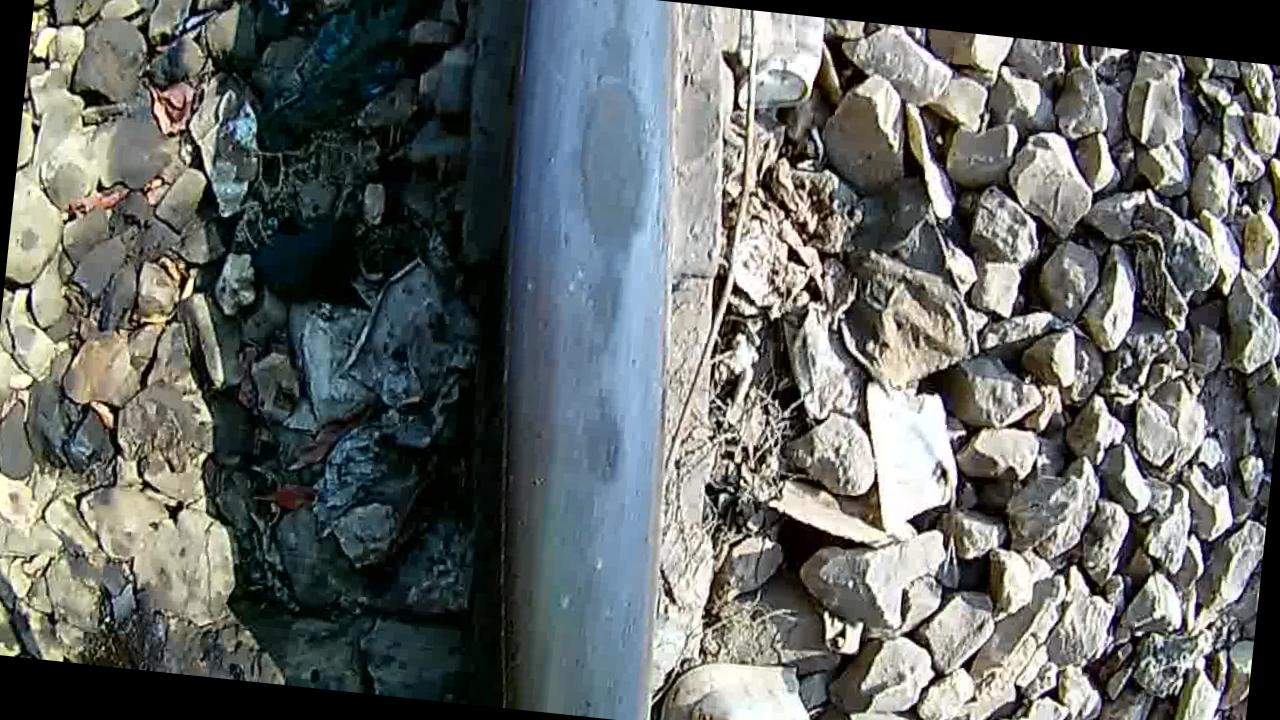bolt_missing: (476, 0, 705, 530)
